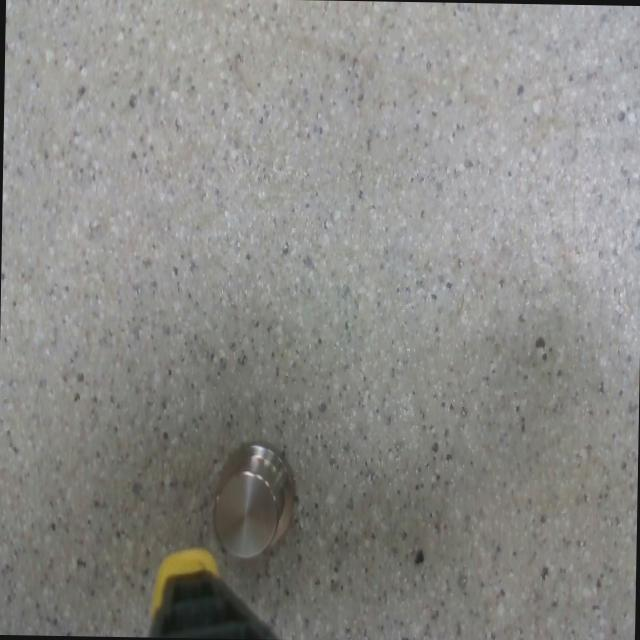sensor: (210, 440, 296, 560)
